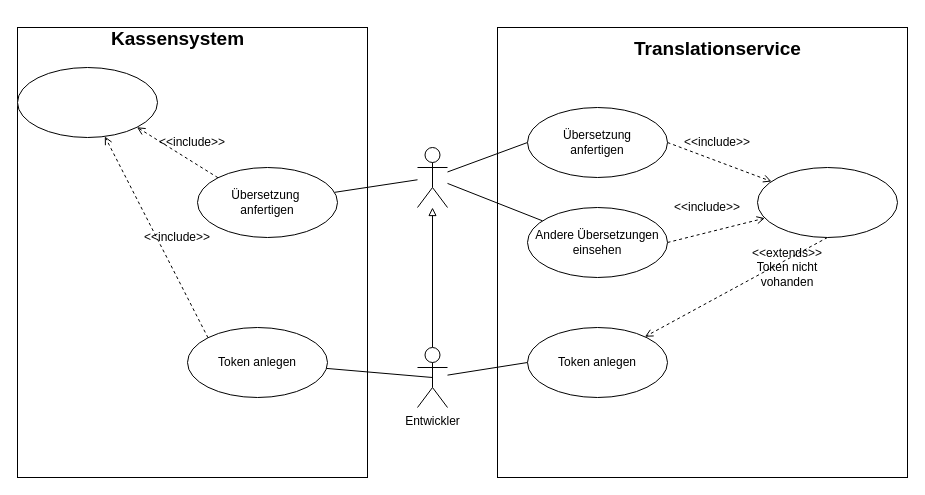
Some shapes in this 925 by 495 pixel diagram are drawn without their labels. The centre of each missing label's shape, as x and y in pixels:
Token vorhanden: the point at 827,202
Übersetzer: the point at 432,177
Übersetzungsdatei synchronisieren: the point at 87,102
